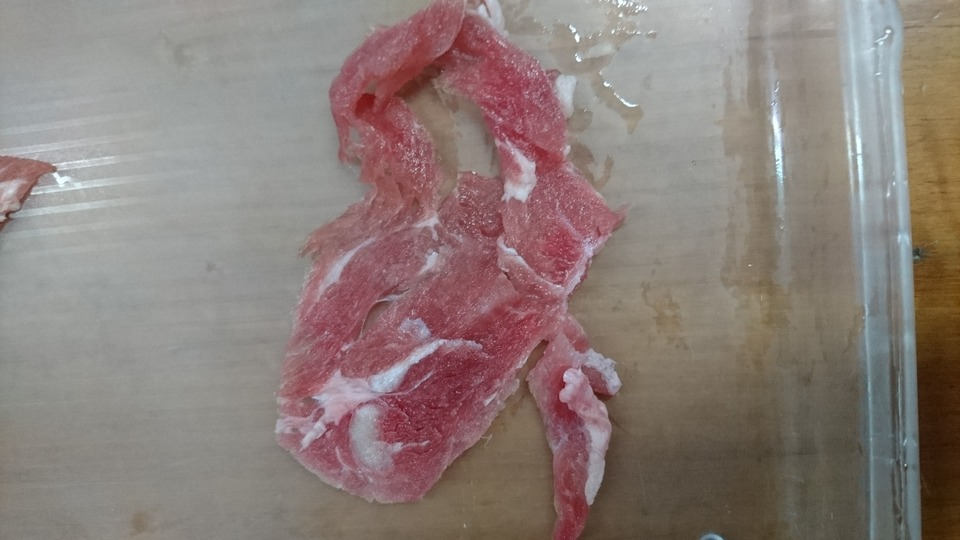restructured meat: (283, 11, 599, 526)
